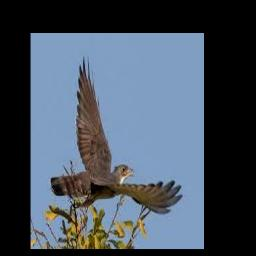Cuckoo: (50, 54, 182, 212)
